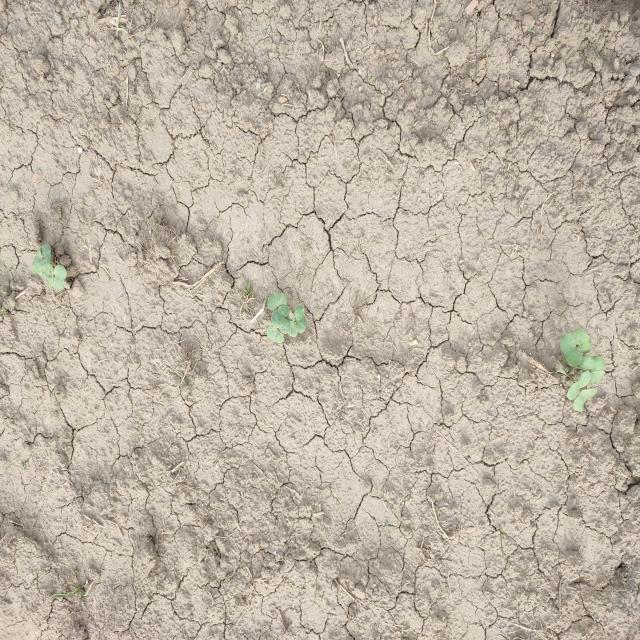seedling: (560, 333, 582, 367), (567, 370, 591, 399), (573, 388, 597, 411), (573, 328, 591, 353), (579, 356, 605, 371), (53, 265, 67, 291), (267, 292, 287, 310), (272, 314, 290, 334), (294, 305, 306, 333), (41, 263, 54, 286), (271, 305, 289, 321), (266, 327, 284, 343), (287, 310, 297, 338), (32, 249, 42, 275), (40, 244, 51, 267), (589, 370, 605, 384)
